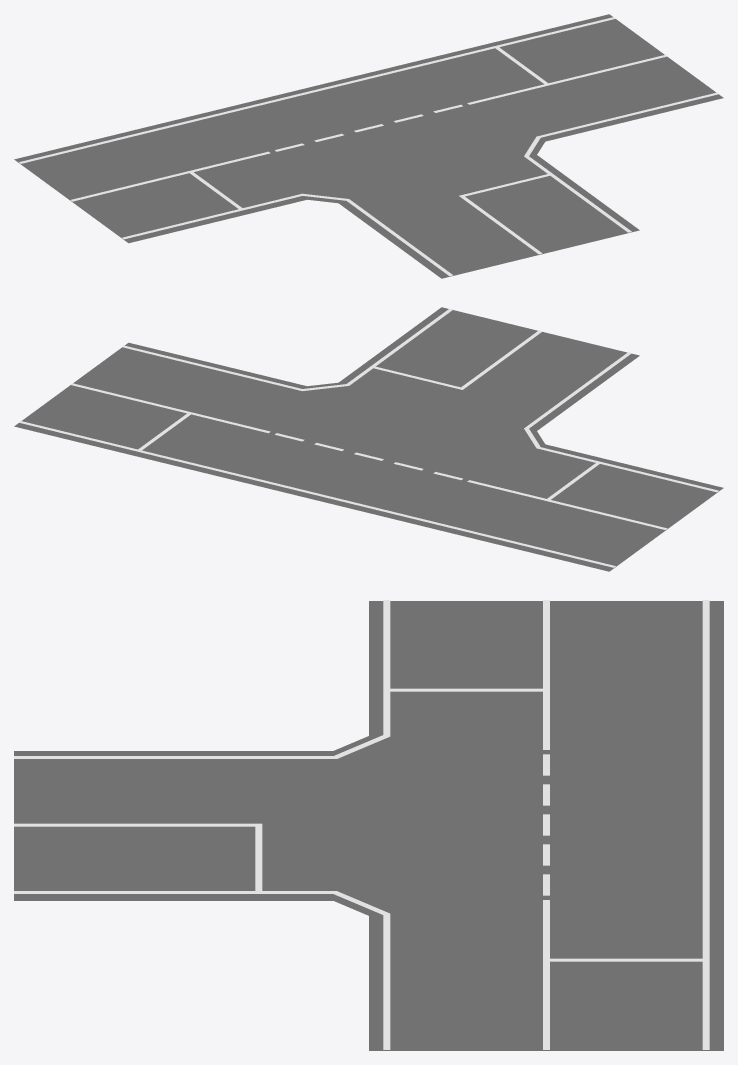
Rendered from SM_Truck_Angle_01.fbx.
The picture shows the model from 3 angles, top to bottom: view 1: azimuth 30°, elevation 25°; view 2: azimuth 150°, elevation 25°; view 3: azimuth 270°, elevation 25°; orthographic projection. The views are drawn at different scales.
Visible parts, largest first — view 1: SM_Truck_Angle_01; view 2: SM_Truck_Angle_01; view 3: SM_Truck_Angle_01.
Part boxes in pixels (<box>): SM_Truck_Angle_01: <box>14,14,723,278</box>; SM_Truck_Angle_01: <box>14,307,723,571</box>; SM_Truck_Angle_01: <box>14,600,723,1050</box>.
Bounding box in the file's own units: 3000 × 2.59 × 2000.
2 materials, 2 textured.
